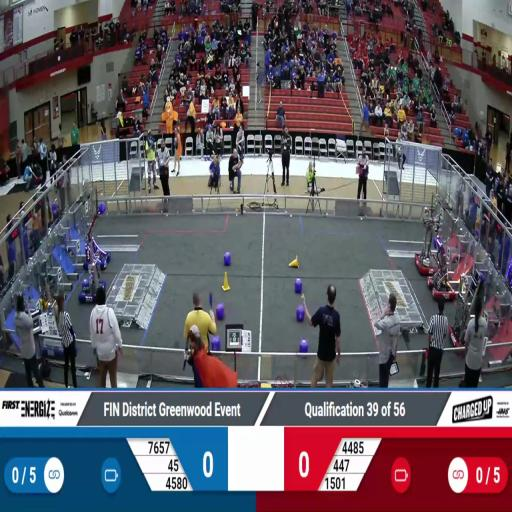robot: (450, 266, 482, 352), (426, 238, 457, 302), (83, 202, 113, 268), (414, 206, 442, 276), (79, 265, 109, 306), (82, 263, 107, 290)
